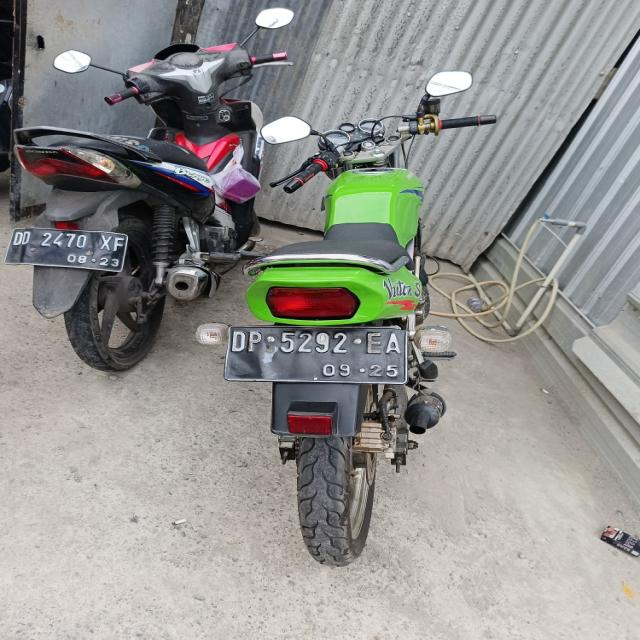plates: (228, 328, 418, 378), (15, 226, 128, 270)
